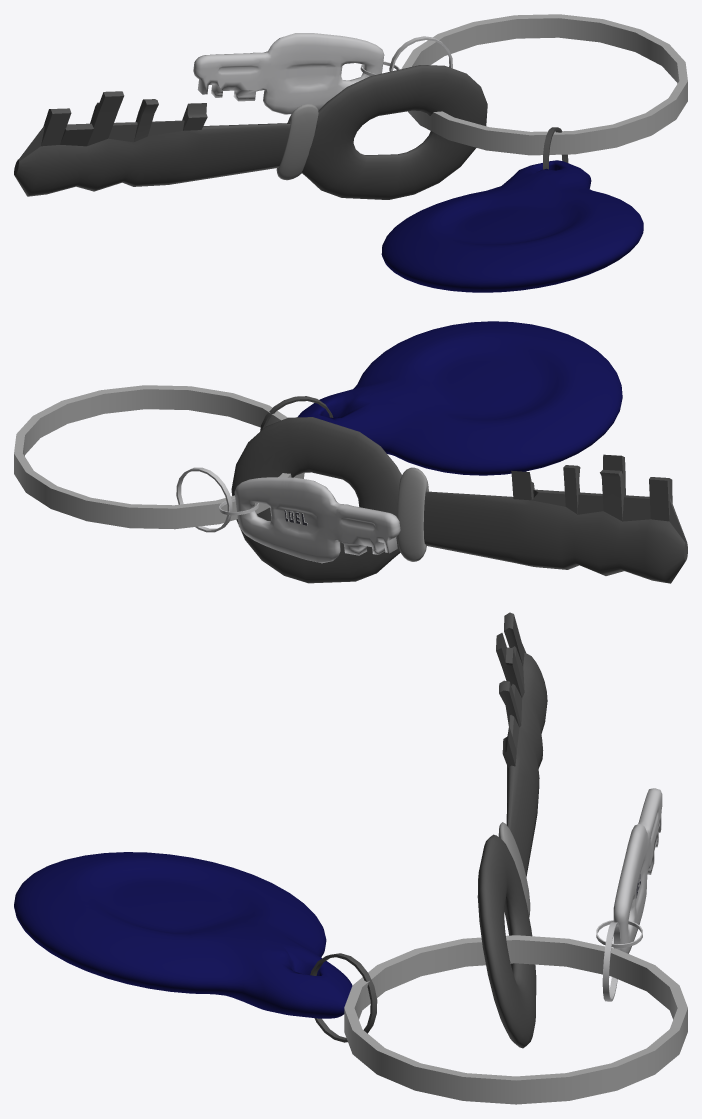
File: Schlüsselbund.fbx
3 renders of one model, top to bottom at view 1: azimuth 30°, elevation 25°; view 2: azimuth 150°, elevation 25°; view 3: azimuth 270°, elevation 25°, orthographic. The views are drawn at different scales.
Visible parts, largest first — view 1: Schlüsselring4; view 2: Schlüsselring4; view 3: Schlüsselring4.
Boxes of the visible parts, bbox=[...] form: Schlüsselring4: bbox=[14, 14, 687, 292]; Schlüsselring4: bbox=[14, 321, 687, 583]; Schlüsselring4: bbox=[14, 612, 687, 1104].
Bounding box in the file's own units: 22.71 × 6.32 × 17.14.
